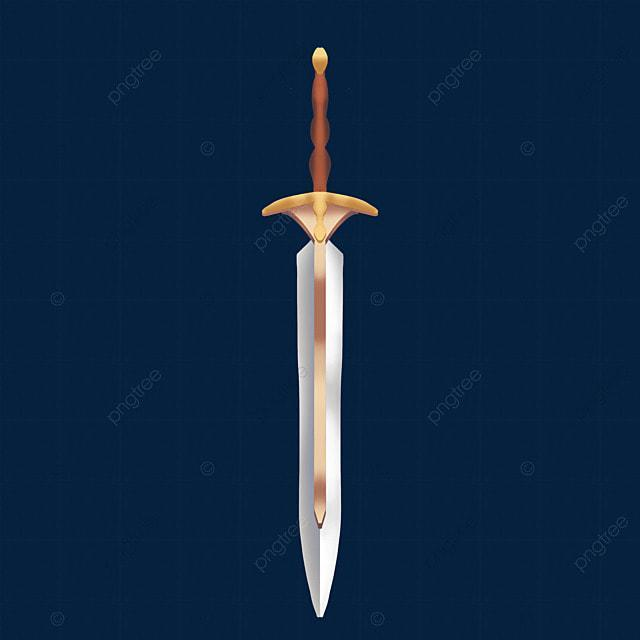long sword: (254, 41, 390, 624)
